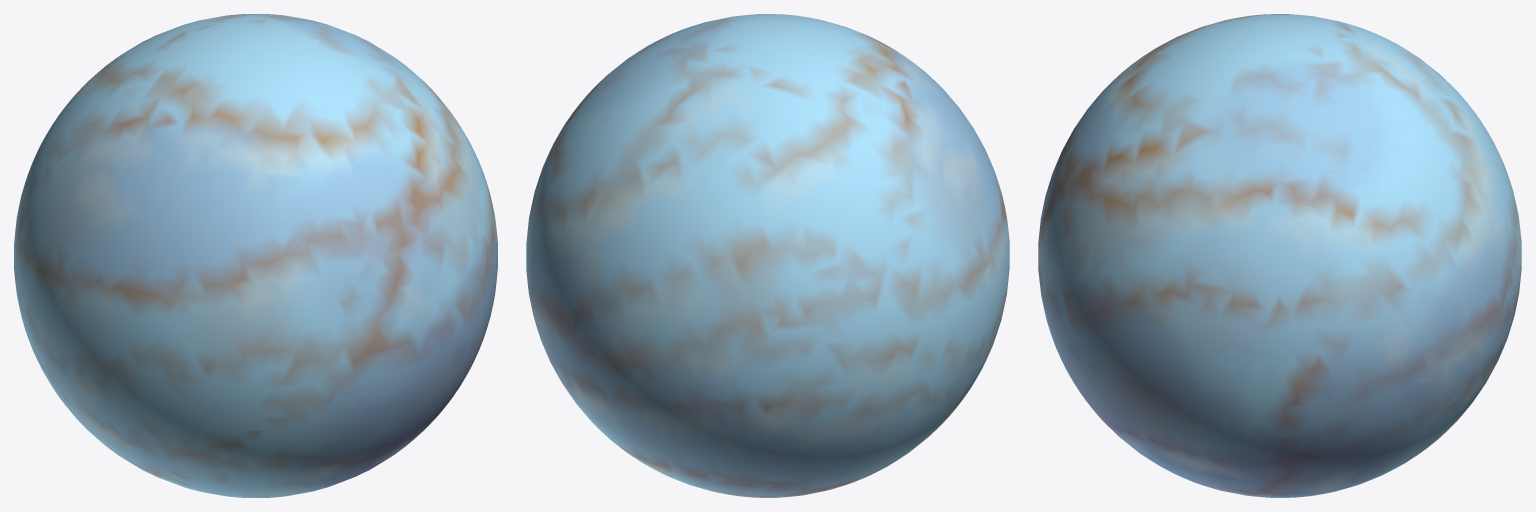
Rendered from planet_ice.fbx.
3 renders of one model, left to right at view 1: azimuth 30°, elevation 25°; view 2: azimuth 150°, elevation 25°; view 3: azimuth 270°, elevation 25°, orthographic.
Visible parts, largest first — view 1: planet_ice; view 2: planet_ice; view 3: planet_ice.
Part boxes in pixels (x1,y1,x2,y2): planet_ice: [14, 14, 497, 497]; planet_ice: [526, 14, 1009, 497]; planet_ice: [1038, 14, 1521, 497].
Bounding box in the file's own units: 184 × 184 × 184.
